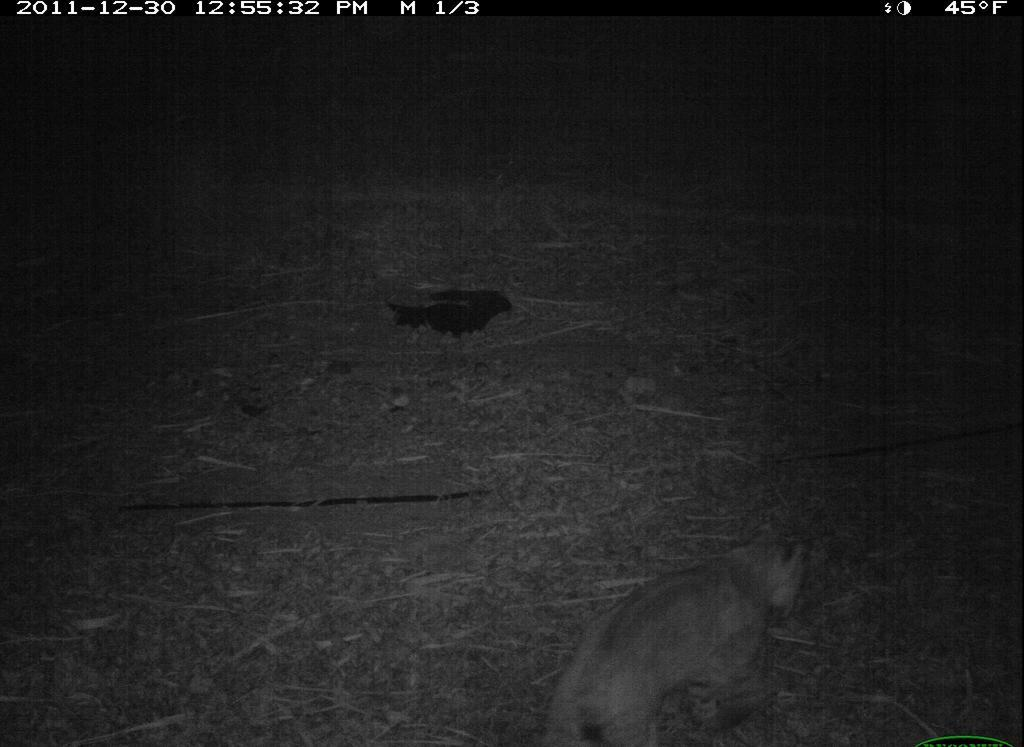bobcat: (495, 505, 849, 747)
